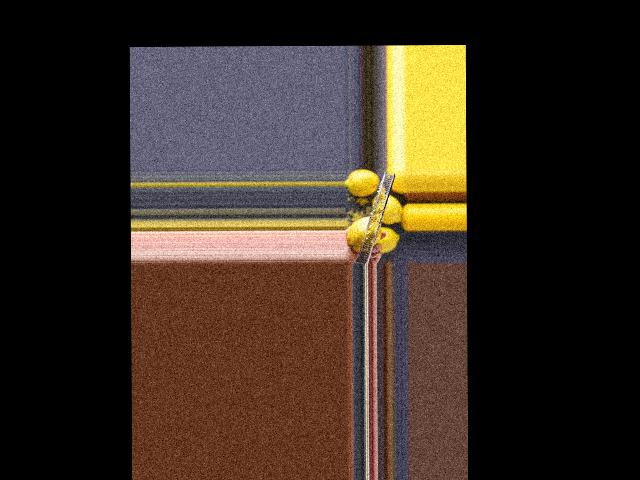lemon: (345, 169, 378, 201)
